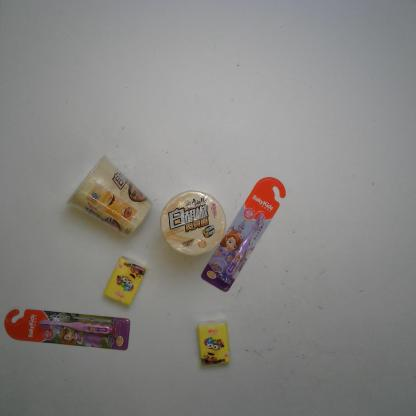Instant Noodles: (66, 154, 154, 236), (160, 190, 225, 256)
Personal Hygiene: (200, 176, 286, 293), (4, 308, 131, 351)
Tissue: (104, 256, 146, 305), (196, 320, 231, 366)
